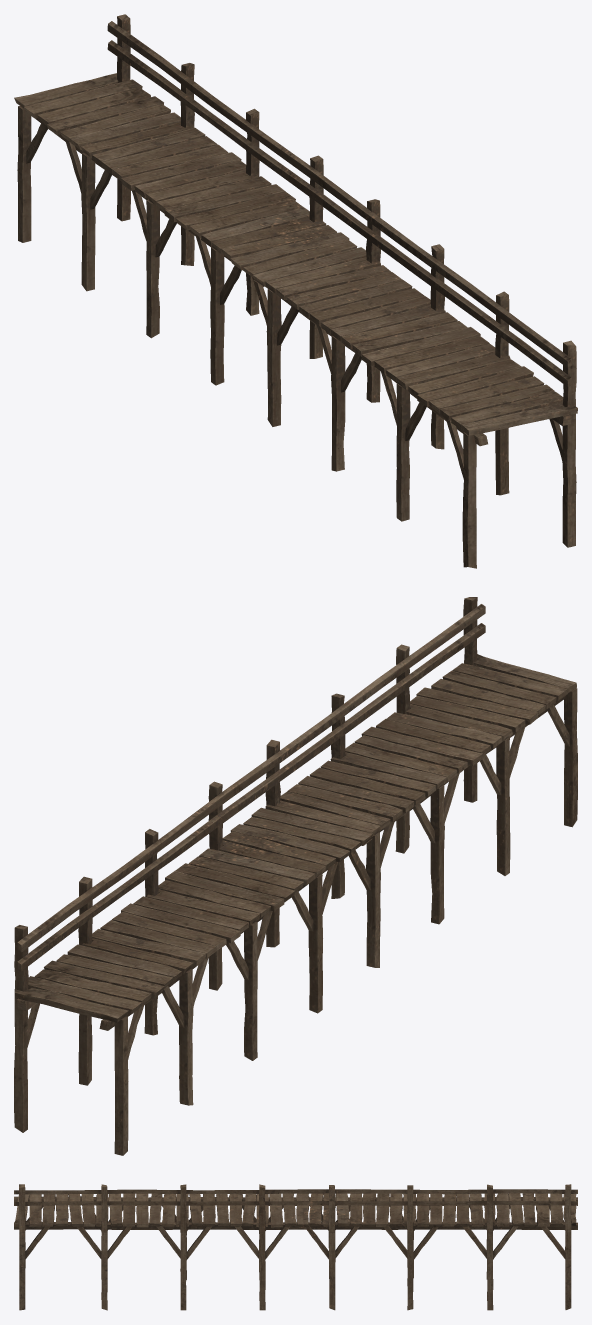
File: bridge.gltf
The picture shows the model from 3 angles, top to bottom: view 1: azimuth 30°, elevation 25°; view 2: azimuth 150°, elevation 25°; view 3: azimuth 270°, elevation 25°; orthographic projection. The views are drawn at different scales.
Visible parts, largest first — view 1: Lowpoly, Lowpolystolpe; view 2: Lowpoly, Lowpolystolpe; view 3: Lowpoly, Lowpolystolpe.
Boxes of the visible parts, x1,y1,x2,y2 form: Lowpoly: [14, 14, 577, 479]; Lowpolystolpe: [17, 106, 576, 568]; Lowpoly: [14, 597, 576, 1059]; Lowpolystolpe: [14, 688, 577, 1155]; Lowpoly: [14, 1184, 577, 1259]; Lowpolystolpe: [19, 1229, 571, 1310].
Size of the model in its own units: 2.69 by 4.69 by 19.38.
Materials: 1 (1 with a texture image).
